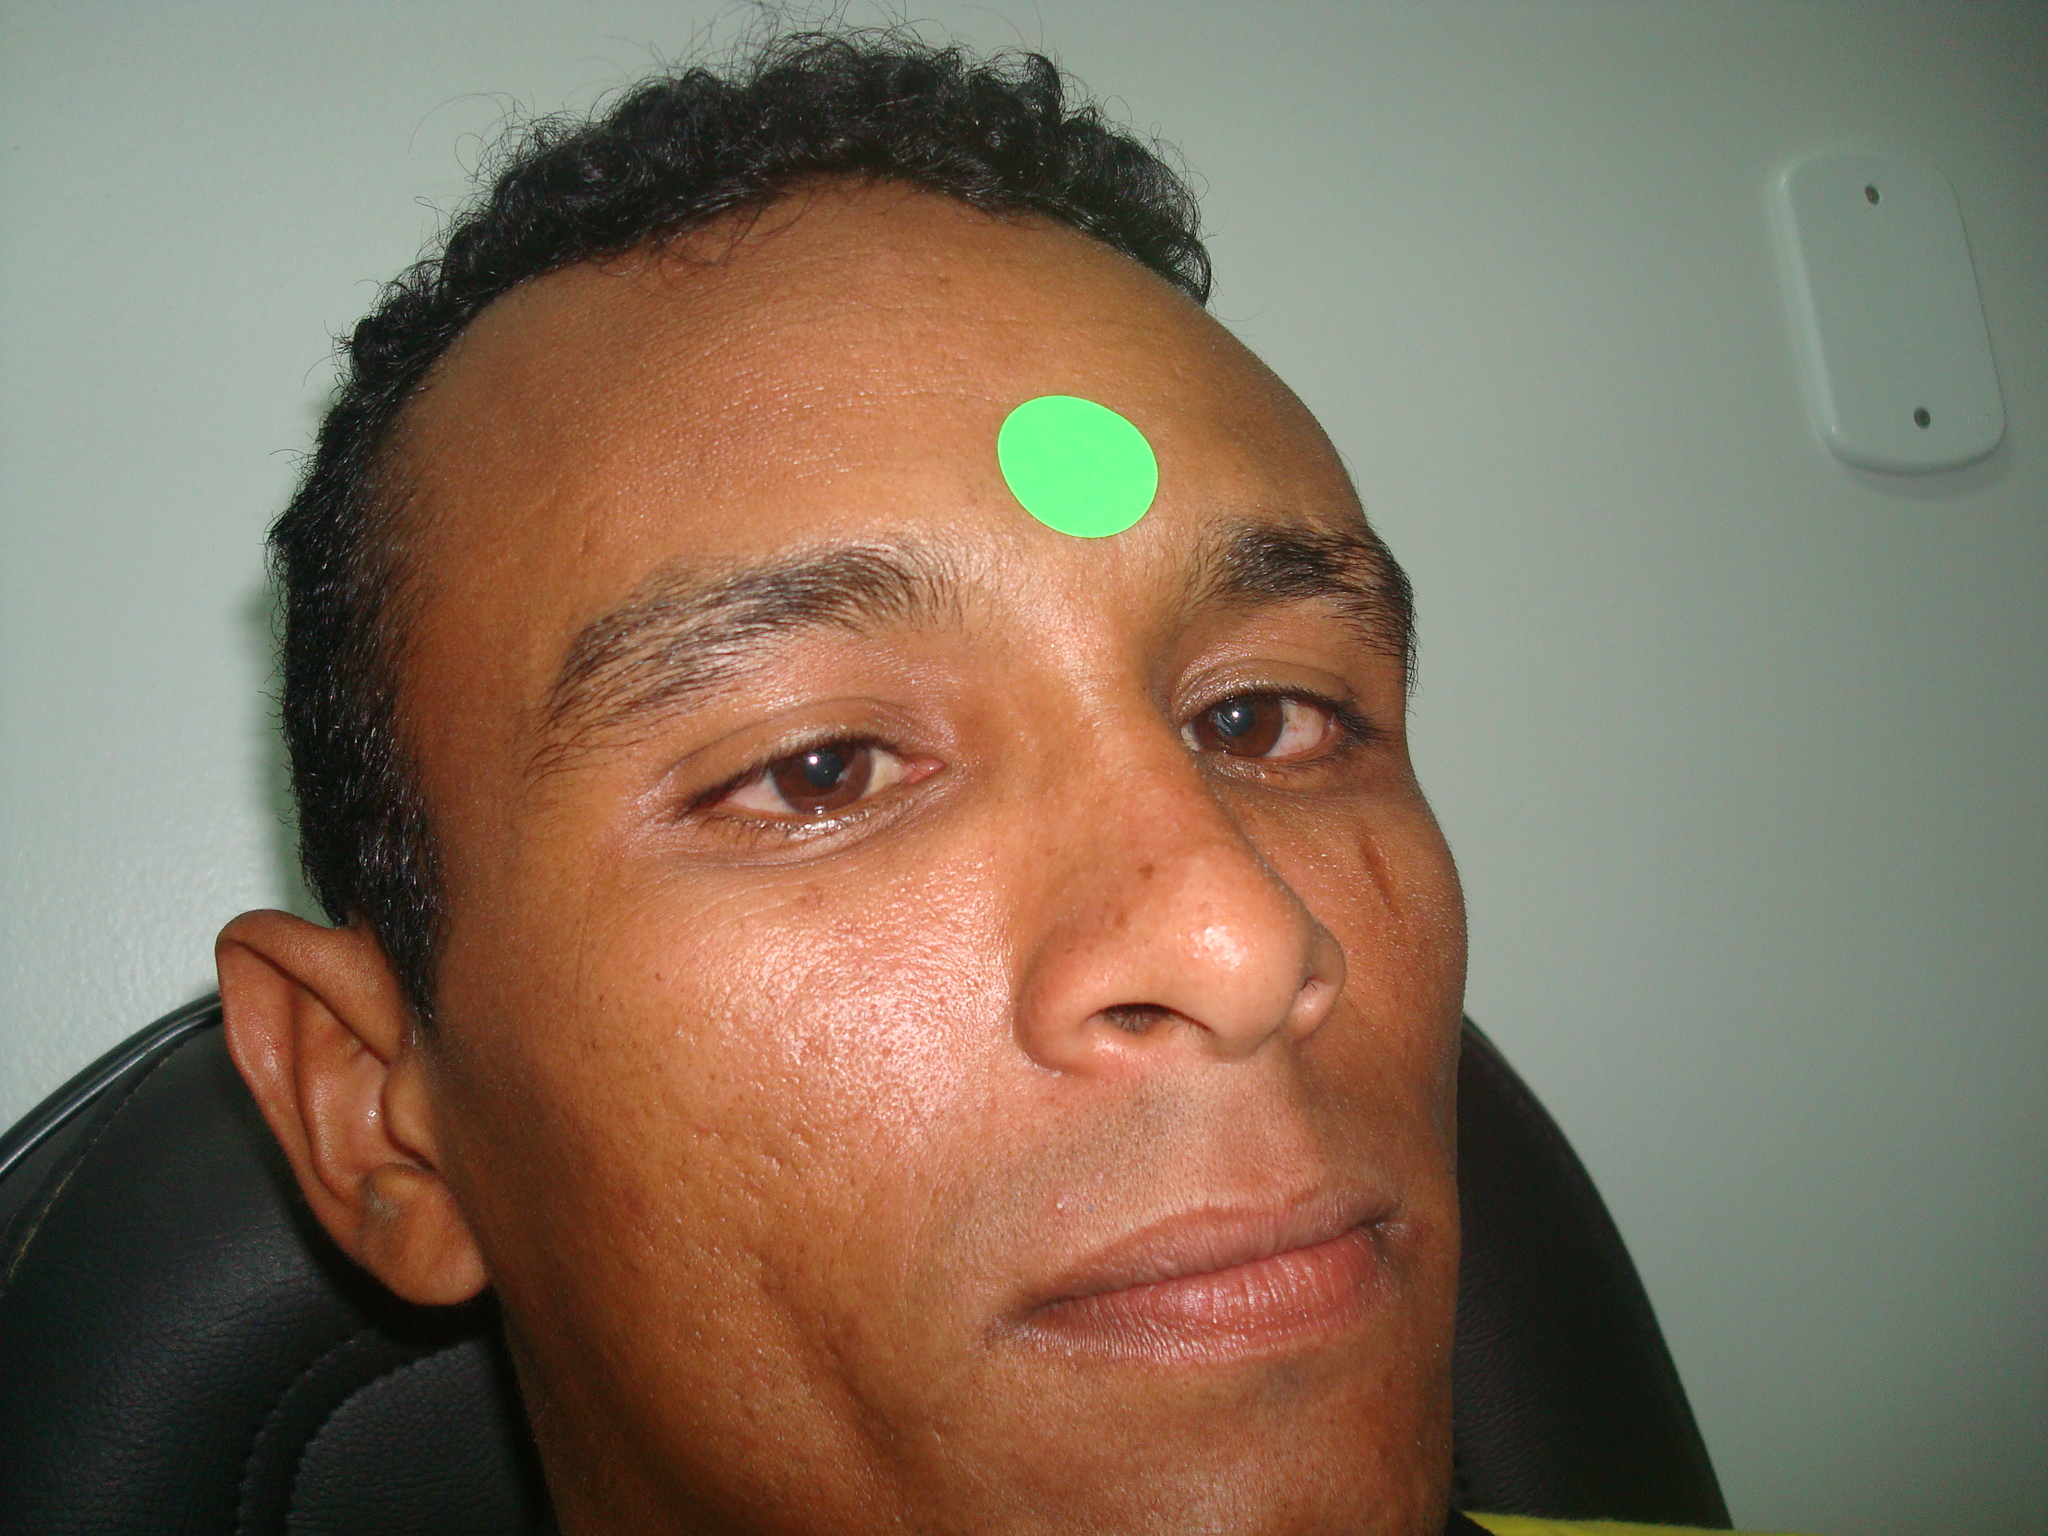flash: (803, 750, 822, 770), (1229, 707, 1243, 721)
limbo: (774, 726, 874, 810), (1193, 687, 1277, 753)
